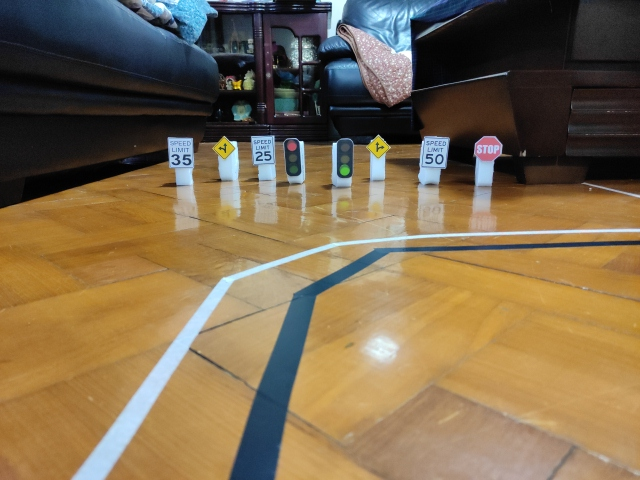Green Traffic Light: (335, 138, 354, 179)
Red Traffic Light: (284, 136, 302, 176)
Speed Limit 25: (251, 135, 276, 164)
Speed Limit 35: (166, 135, 194, 168)
Speed Limit 50: (421, 135, 450, 168)
Stop Sign: (473, 136, 504, 161)
Straight Or Left Sign: (214, 136, 237, 160)
Straight Or Right Sign: (366, 135, 391, 159)
